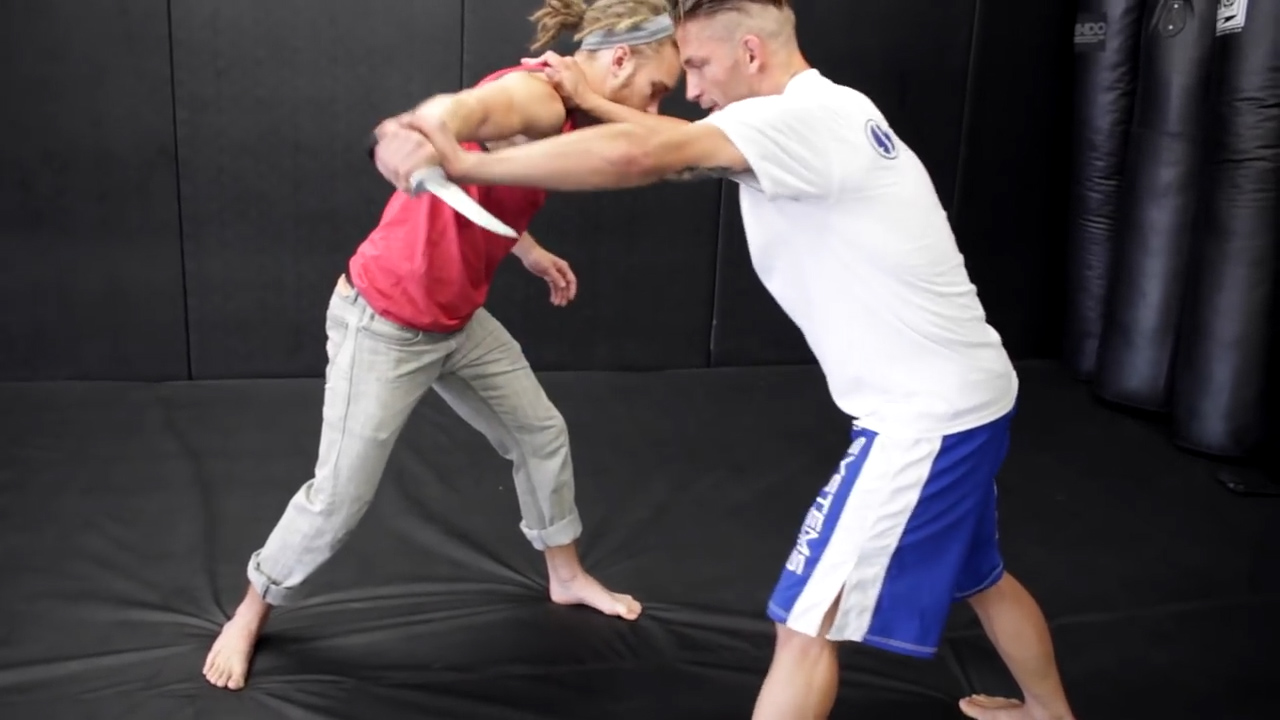knife: (359, 137, 528, 250)
